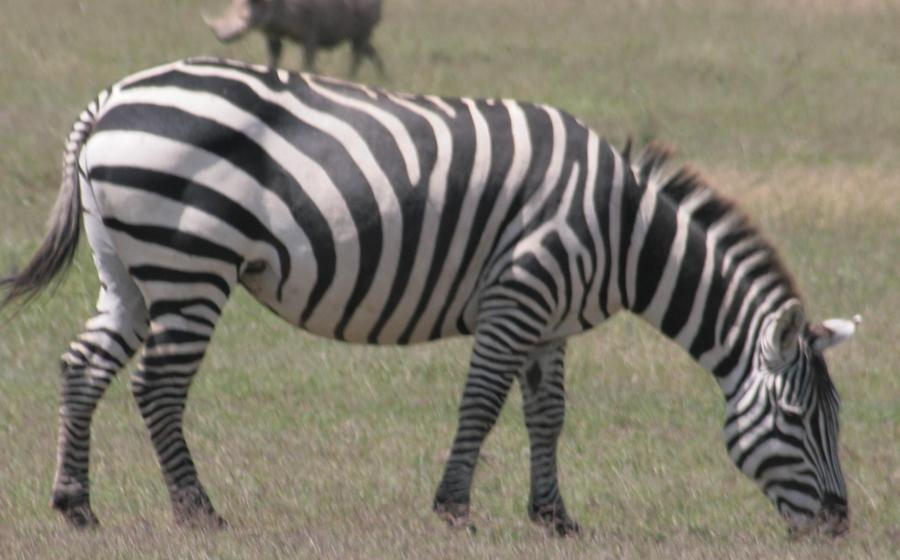zebra_plains: (100, 64, 612, 334)
